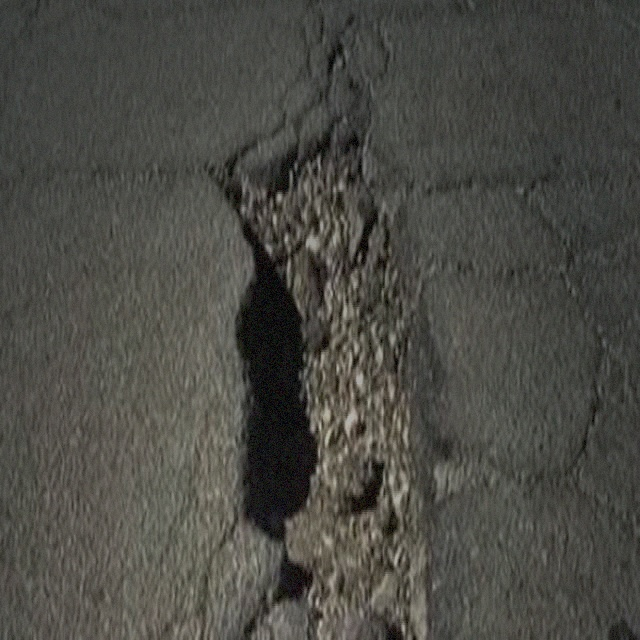pothole: (203, 102, 437, 638)
